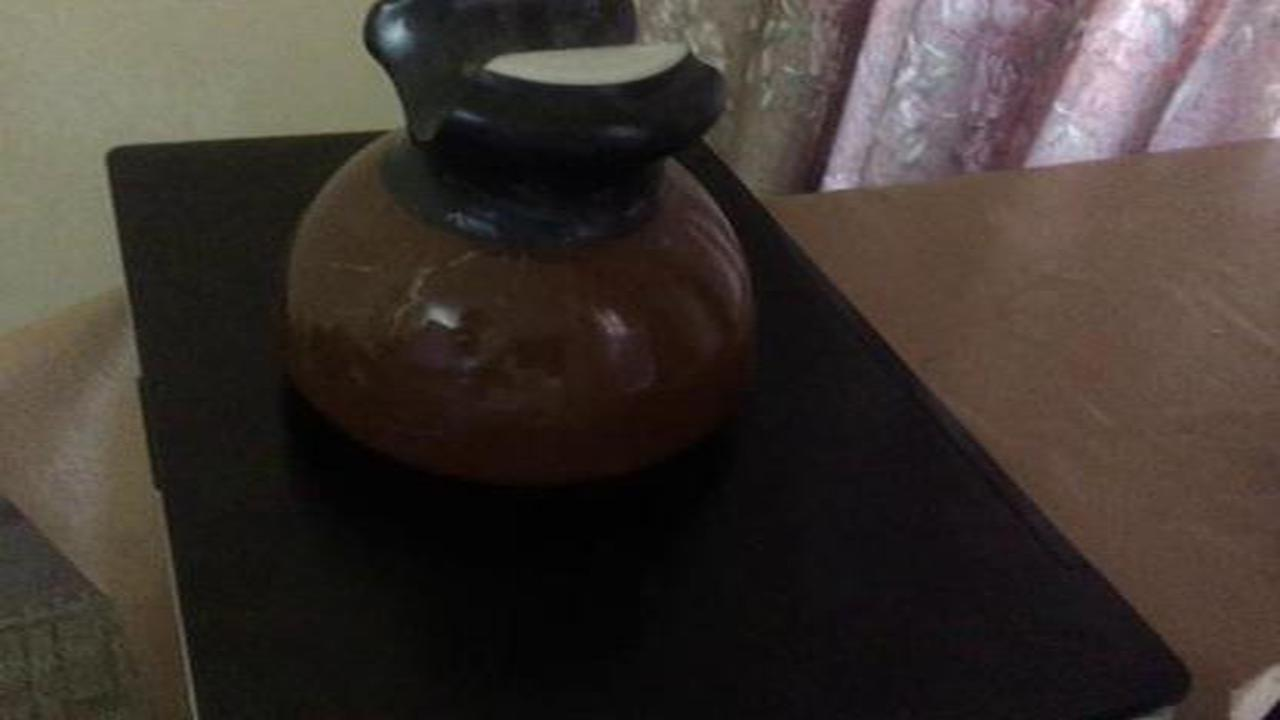insulator_pin: (250, 6, 782, 502)
